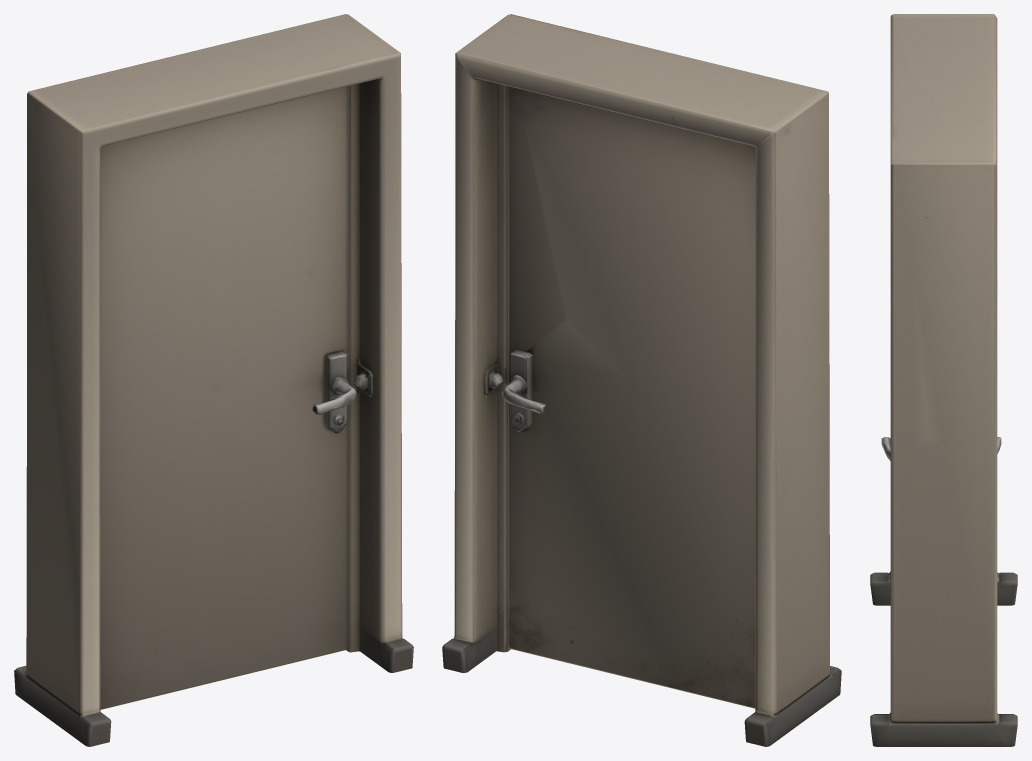
Rendered from office_door_closed.glb.
The picture shows the model from 3 angles, left to right: view 1: azimuth 30°, elevation 25°; view 2: azimuth 150°, elevation 25°; view 3: azimuth 270°, elevation 25°; orthographic projection. The views are drawn at different scales.
Size of the model in its own units: 1.18 by 2.1 by 0.4808.
1 material, 1 textured.
